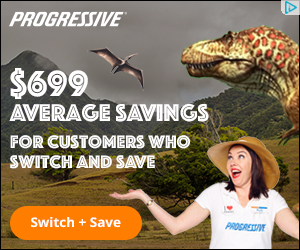fake_button: (8, 203, 149, 244)
